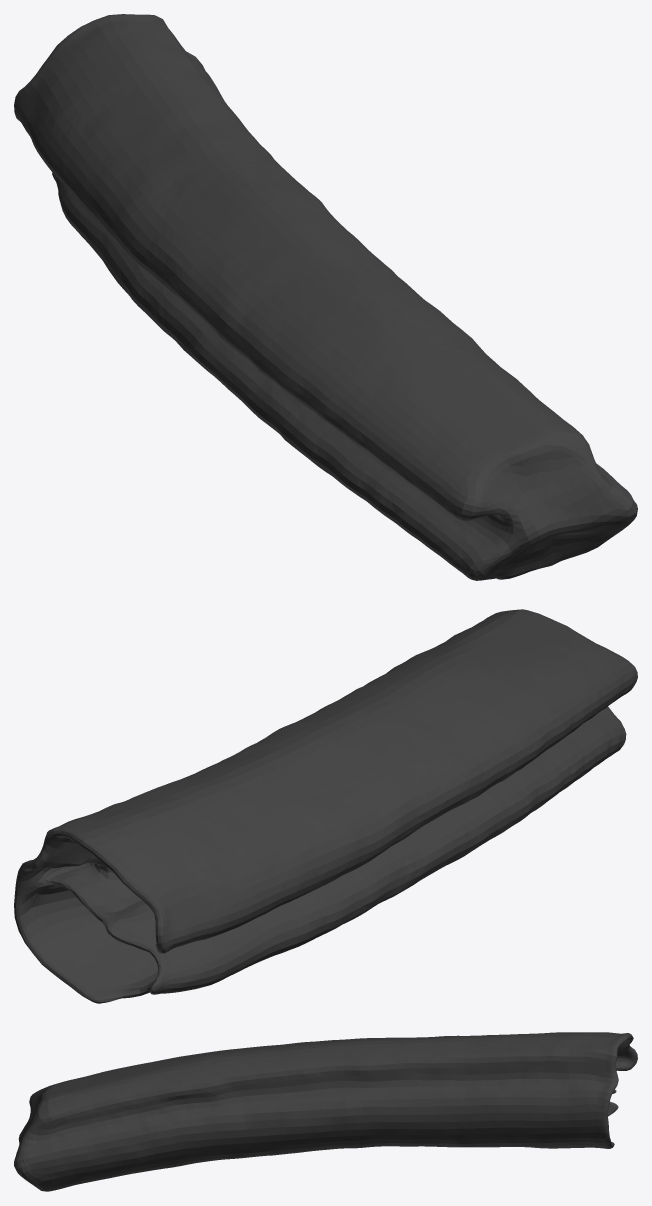
The model's file is tooth_rabbit_408_low.glb.
3 views of the same model, one above another, from view 1: azimuth 30°, elevation 25°; view 2: azimuth 150°, elevation 25°; view 3: azimuth 270°, elevation 25° (orthographic). The views are drawn at different scales.
Parts seen in each view (by area): view 1: tooth_rabbit_408_low; view 2: tooth_rabbit_408_low; view 3: tooth_rabbit_408_low.
Boxes of the visible parts, x1,y1,x2,y2 form: tooth_rabbit_408_low: (14, 14, 637, 580); tooth_rabbit_408_low: (14, 609, 637, 1003); tooth_rabbit_408_low: (14, 1032, 637, 1191).
Bounding box in the file's own units: 0.4188 × 0.4197 × 1.55.
Materials: 1 (1 with a texture image).
